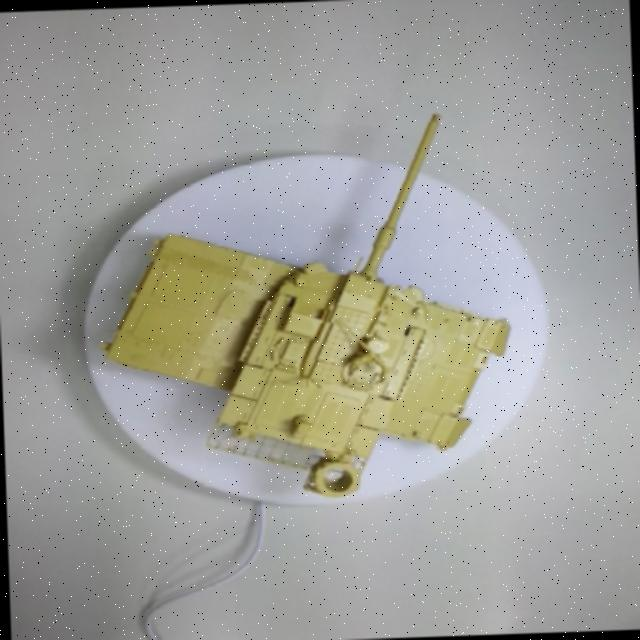korea tank: (100, 64, 545, 502)
